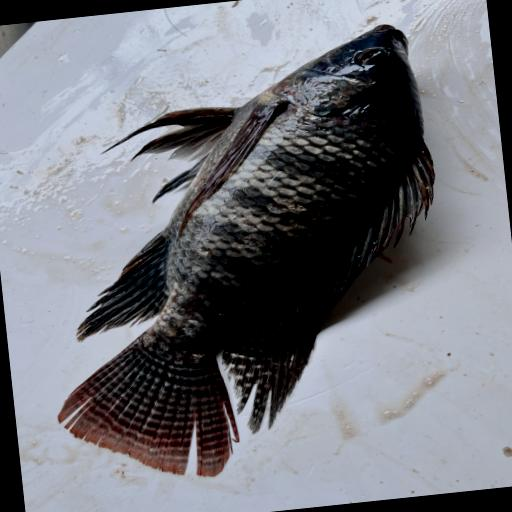Tilapia: (20, 21, 465, 493)
